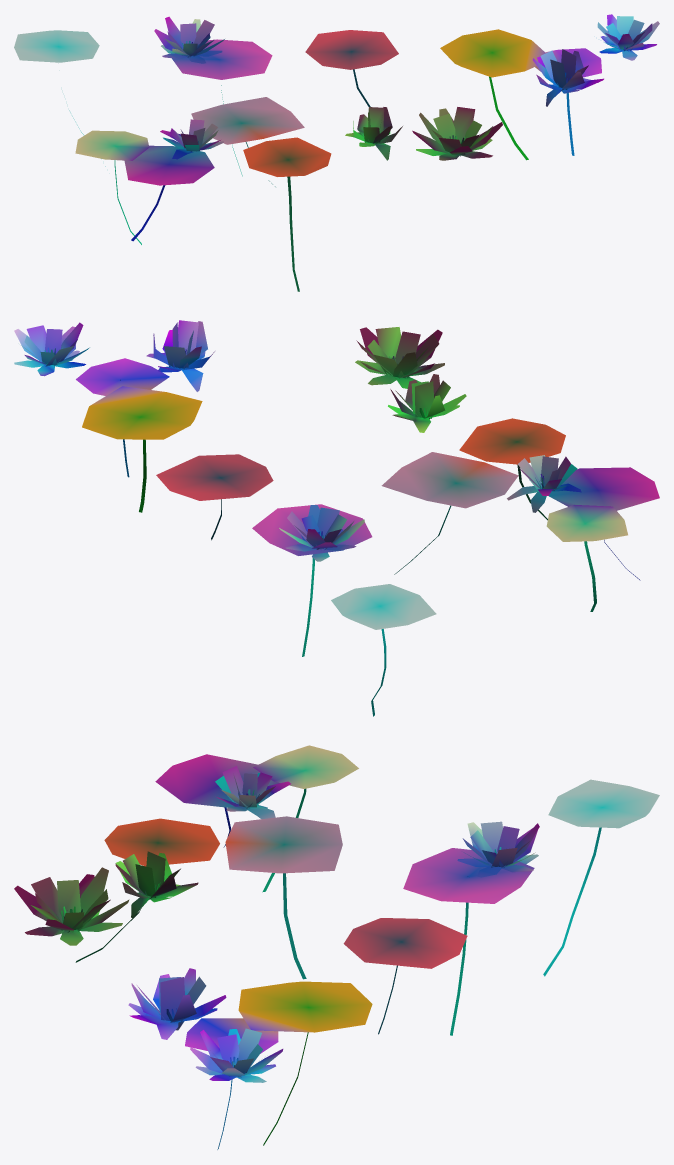
File: Rembrandt_Water_Lily_uc2kajgia_High_uc2kajgia_VarE_LOD1.fbx
The picture shows the model from 3 angles, top to bottom: view 1: azimuth 30°, elevation 25°; view 2: azimuth 150°, elevation 25°; view 3: azimuth 270°, elevation 25°; orthographic projection. The views are drawn at different scales.
Visible parts, largest first — view 1: _e298_VarE_LOD2; view 2: _e298_VarE_LOD2; view 3: _e298_VarE_LOD2.
Boxes of the visible parts, <box> form: _e298_VarE_LOD2: <box>14,14,659,291</box>; _e298_VarE_LOD2: <box>14,320,659,716</box>; _e298_VarE_LOD2: <box>14,745,659,1149</box>.
Bounding box in the file's own units: 170 × 44.53 × 133.
